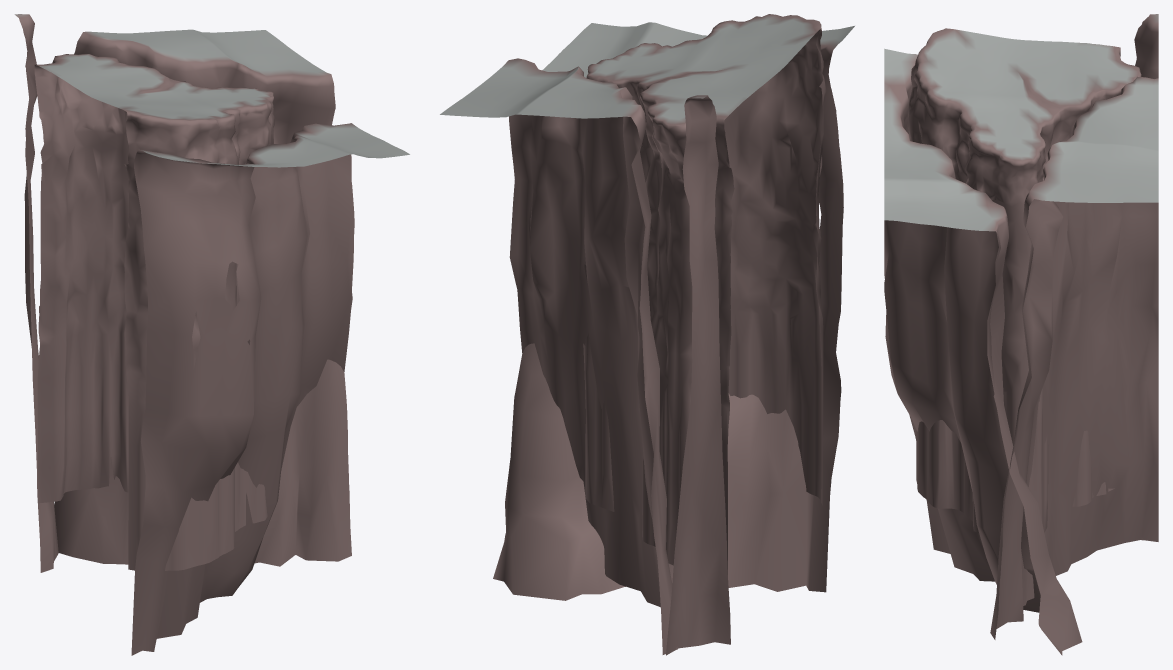
The picture shows the model from 3 angles, left to right: view 1: azimuth 30°, elevation 25°; view 2: azimuth 150°, elevation 25°; view 3: azimuth 270°, elevation 25°; orthographic projection. The views are drawn at different scales.
Visible parts, largest first — view 1: G:\FFXIV-MapTools\exports\u5f1\bg\ex4\04_uvs_u5\fld\u5f1\bgp (×10); view 2: G:\FFXIV-MapTools\exports\u5f1\bg\ex4\04_uvs_u5\fld\u5f1\bgp (×11); view 3: G:\FFXIV-MapTools\exports\u5f1\bg\ex4\04_uvs_u5\fld\u5f1\bgp (×11).
Boxes of the visible parts, left/top/right/bottom form: G:\FFXIV-MapTools\exports\u5f1\bg\ex4\04_uvs_u5\fld\u5f1\bgp (×10): left=14, top=14, right=404, bottom=655; G:\FFXIV-MapTools\exports\u5f1\bg\ex4\04_uvs_u5\fld\u5f1\bgp (×11): left=440, top=14, right=854, bottom=655; G:\FFXIV-MapTools\exports\u5f1\bg\ex4\04_uvs_u5\fld\u5f1\bgp (×11): left=884, top=14, right=1158, bottom=655.
Size of the model in its own units: 128 by 271 by 128.
